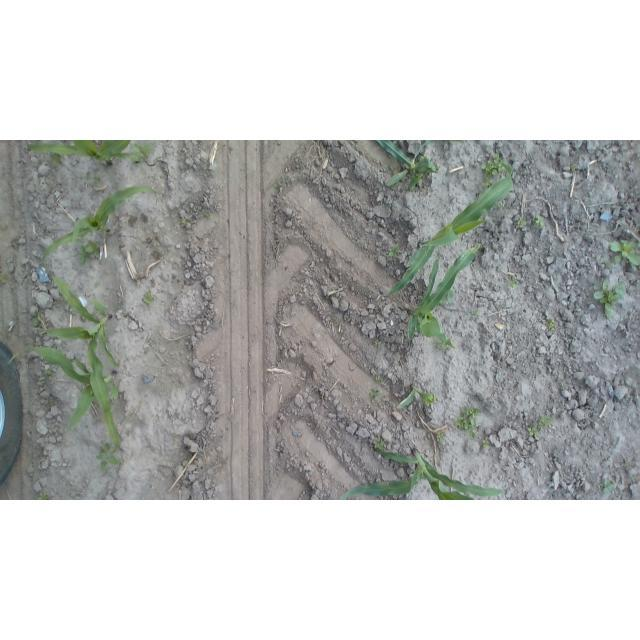Maize: (383, 162, 513, 297), (40, 268, 120, 452), (6, 346, 118, 436), (42, 186, 160, 265), (338, 445, 505, 500), (407, 244, 481, 349), (377, 141, 440, 192), (28, 141, 136, 168), (397, 383, 435, 409), (455, 141, 465, 144)
Weeds: (588, 279, 626, 320), (454, 406, 481, 439), (607, 238, 640, 265), (96, 443, 119, 470), (481, 152, 506, 176), (77, 240, 99, 265), (131, 144, 154, 163), (599, 479, 613, 496), (539, 414, 554, 428), (388, 244, 401, 259), (373, 438, 387, 451), (142, 291, 154, 306), (558, 378, 571, 391), (434, 342, 449, 353), (482, 171, 491, 189), (535, 215, 546, 228), (34, 310, 41, 328), (51, 153, 61, 165), (507, 276, 517, 288), (546, 319, 555, 332), (528, 426, 539, 436), (370, 389, 380, 400), (600, 260, 612, 269), (518, 218, 527, 228), (282, 176, 292, 185), (471, 309, 479, 320), (44, 369, 56, 376), (481, 439, 489, 449), (436, 432, 444, 442), (37, 493, 48, 500), (181, 218, 189, 227), (376, 375, 385, 383), (497, 204, 505, 213), (621, 459, 630, 467), (374, 339, 382, 347), (1, 276, 8, 285), (93, 176, 101, 183), (275, 182, 282, 190), (385, 163, 393, 170), (205, 213, 211, 220), (85, 171, 91, 177), (571, 166, 577, 172), (95, 281, 100, 288), (154, 244, 158, 249), (386, 401, 390, 406), (173, 433, 177, 438)
